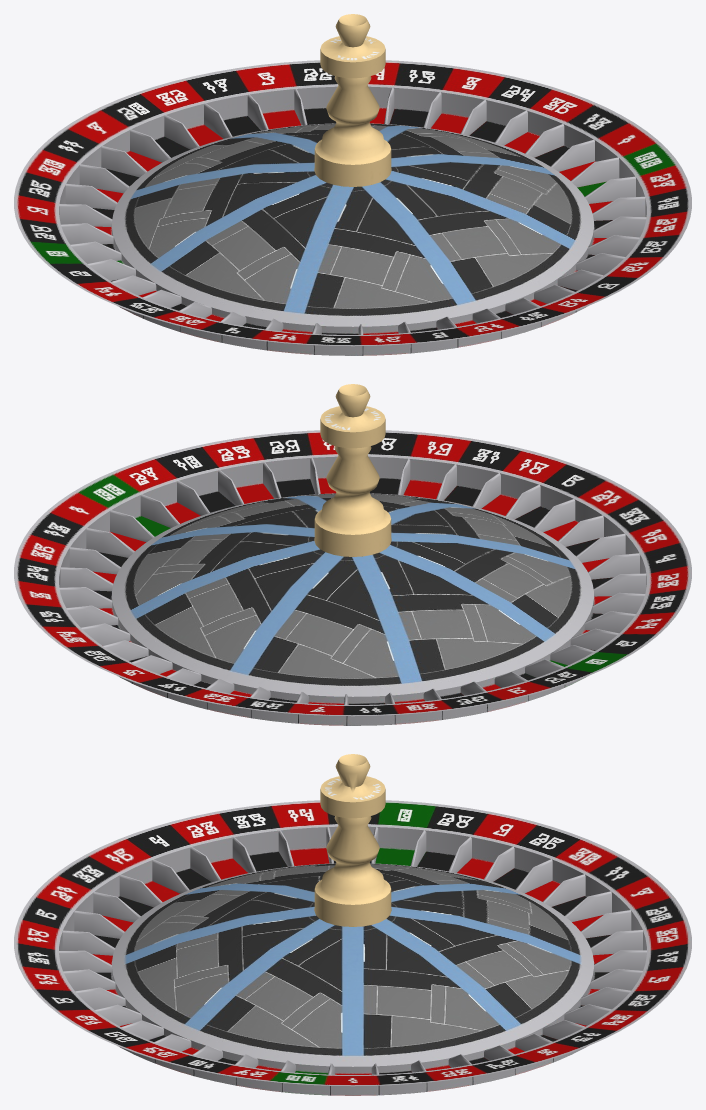
The model's file is American_Roulette.fbx.
3 views of the same model, one above another, from view 1: azimuth 30°, elevation 25°; view 2: azimuth 150°, elevation 25°; view 3: azimuth 270°, elevation 25° (orthographic).
Parts seen in each view (by area): view 1: American_Roulette; view 2: American_Roulette; view 3: American_Roulette.
Part boxes in pixels (<box>): American_Roulette: <box>14,14,691,355</box>; American_Roulette: <box>14,384,691,725</box>; American_Roulette: <box>14,754,691,1095</box>.
Size of the model in its own units: 0.8802 by 0.3031 by 0.8797.
Materials: 2 (2 with a texture image).
